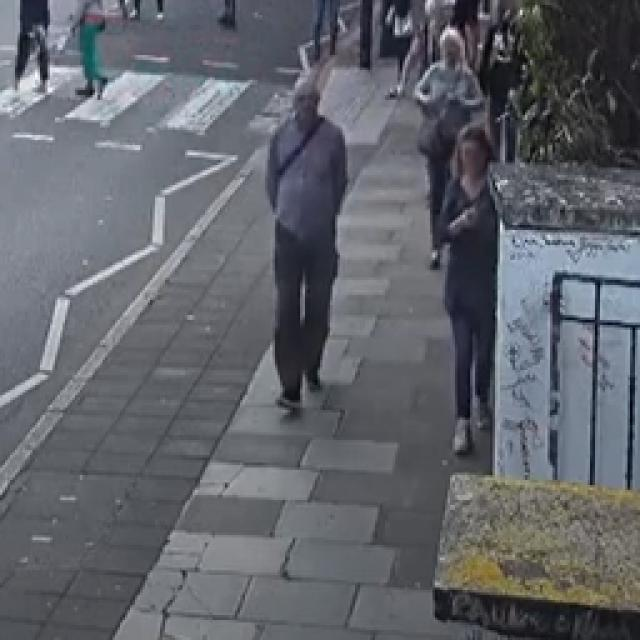person: (263, 76, 348, 416), (435, 120, 503, 460), (419, 26, 481, 266), (382, 0, 435, 104), (66, 0, 111, 104), (11, 0, 54, 105), (383, 3, 418, 81), (310, 0, 340, 65), (128, 0, 170, 20)
